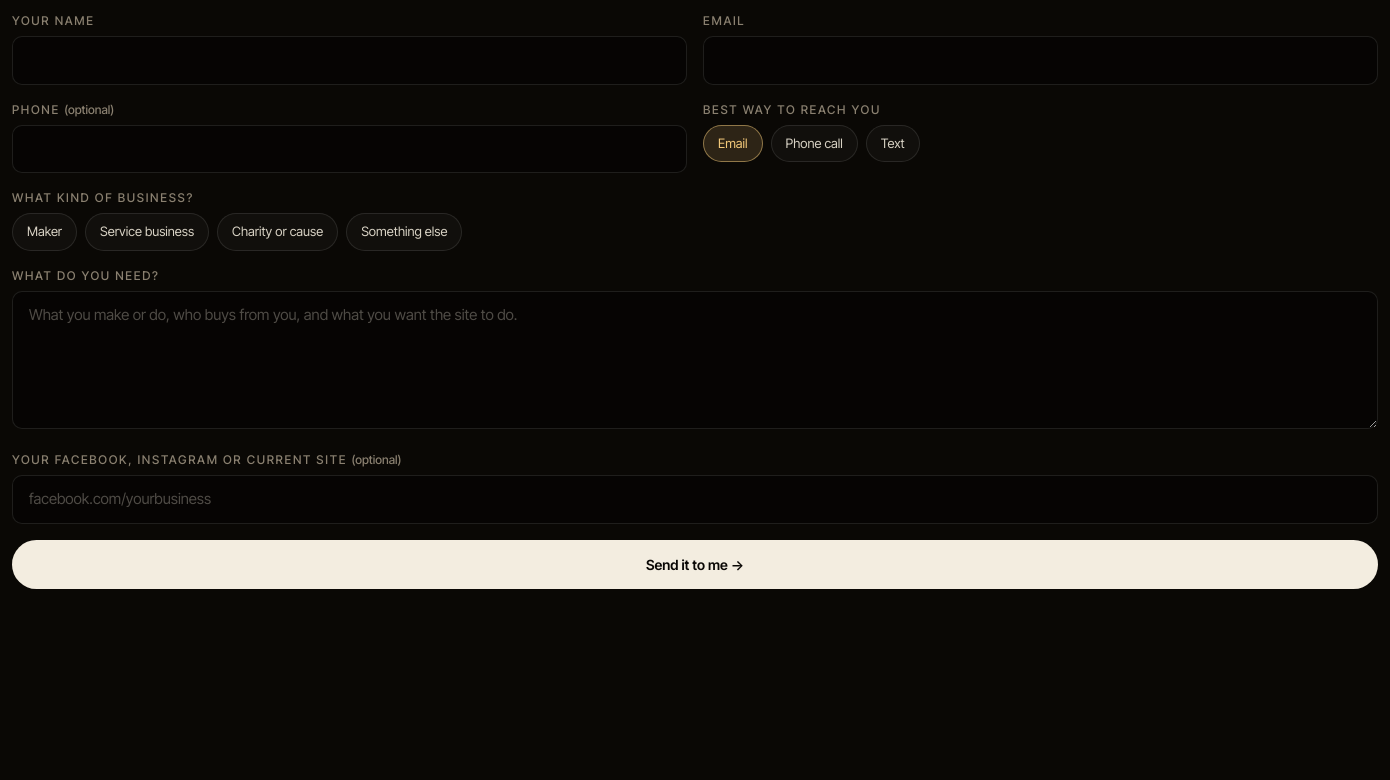
InquiryForm › shows a missing-field problem without sending
Click the button "Send it to me →" at (695, 564), box [12, 540, 1378, 588]
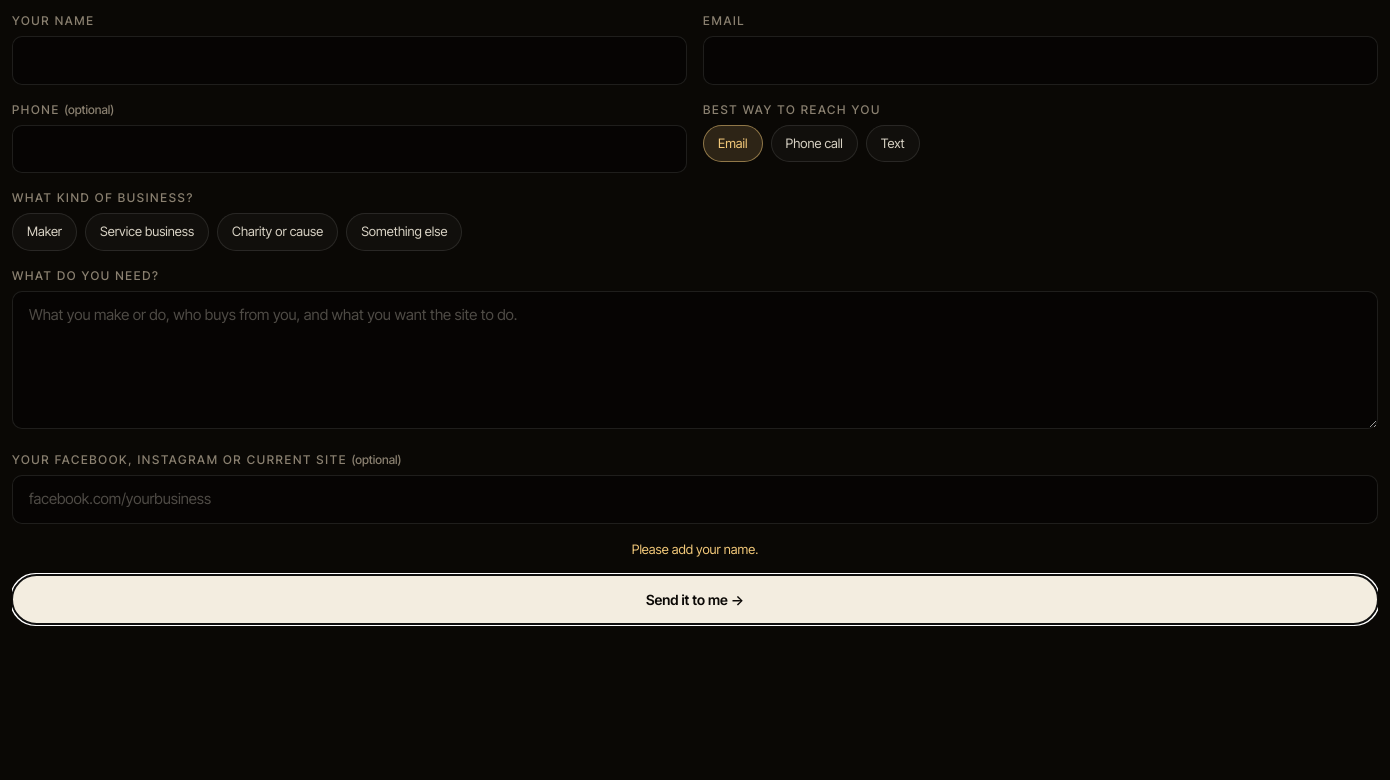
Expected: the message shows "name", [632, 540, 758, 556]
